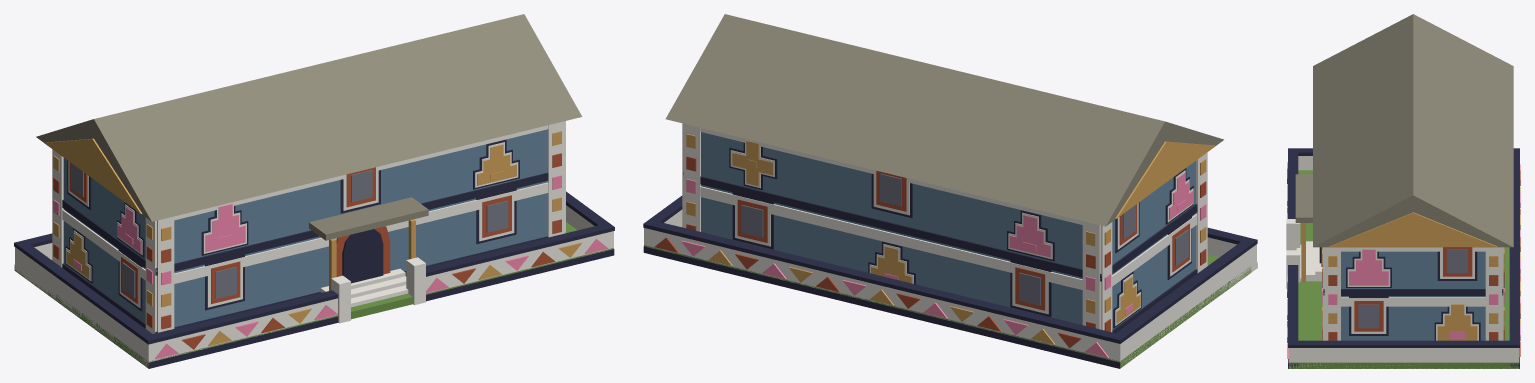
Rendered from house-2x1-2f-ndebele-a.glb.
3 renders of one model, left to right at view 1: azimuth 30°, elevation 25°; view 2: azimuth 150°, elevation 25°; view 3: azimuth 270°, elevation 25°, orthographic. The views are drawn at different scales.
Parts seen in each view (by area): view 1: house-2x1-2f-ndebele-a; view 2: house-2x1-2f-ndebele-a; view 3: house-2x1-2f-ndebele-a.
Part boxes in pixels (box(x1,y1,x2,y2)): house-2x1-2f-ndebele-a: box(14, 14, 614, 368); house-2x1-2f-ndebele-a: box(643, 14, 1257, 368); house-2x1-2f-ndebele-a: box(1286, 14, 1520, 368).
Bounding box in the file's own units: 1.99 × 0.7865 × 1.01.
Materials: 1 (1 with a texture image).
